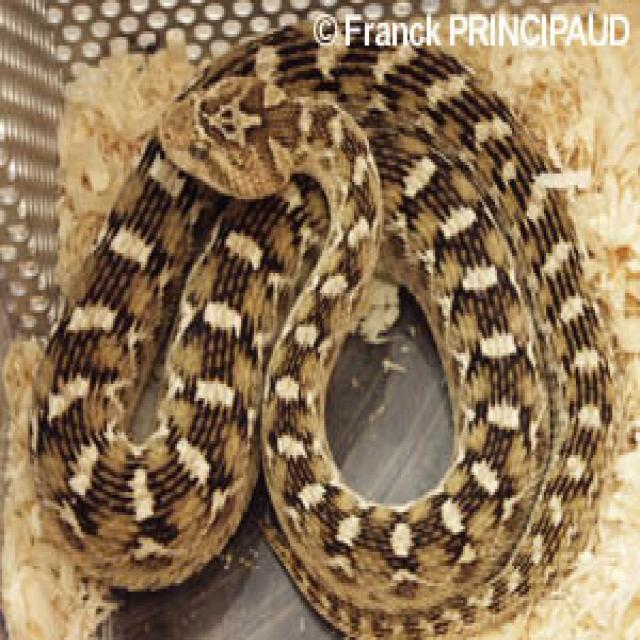Snake: (26, 20, 616, 637)
